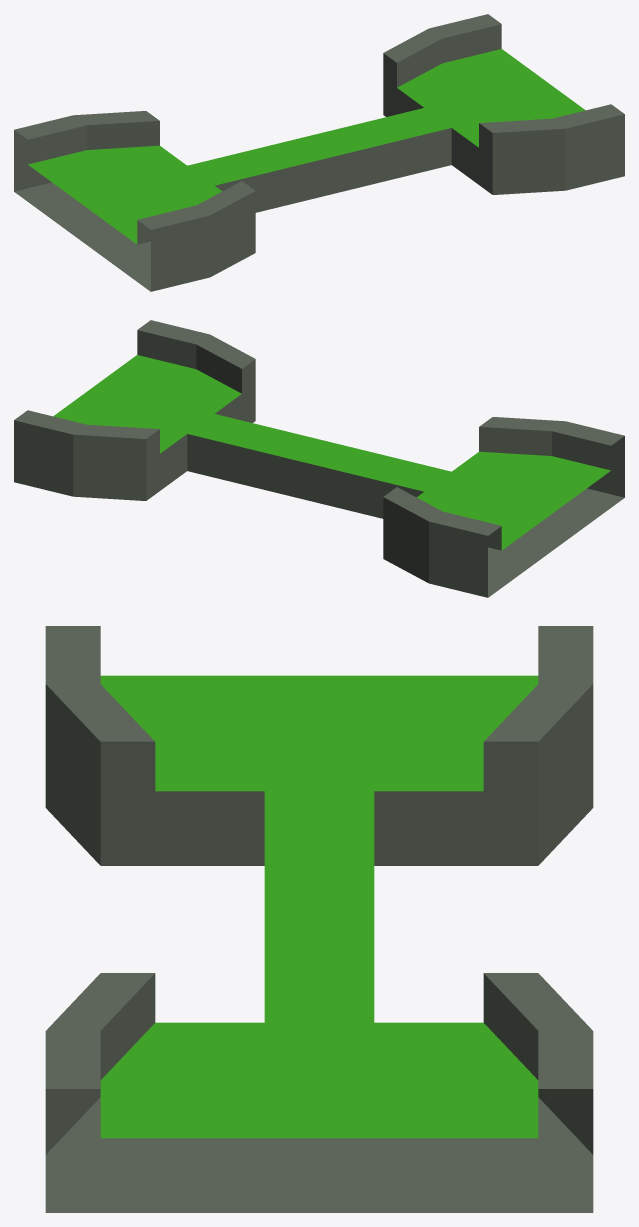
The model's file is BalanceBeam.fbx.
3 views of the same model, one above another, from view 1: azimuth 30°, elevation 25°; view 2: azimuth 150°, elevation 25°; view 3: azimuth 270°, elevation 25° (orthographic). The views are drawn at different scales.
Parts seen in each view (by area): view 1: BalanceBeam.002; view 2: BalanceBeam.002; view 3: BalanceBeam.002.
Part boxes in pixels (x1,y1,x2,y2): BalanceBeam.002: [14, 14, 624, 291]; BalanceBeam.002: [14, 320, 624, 597]; BalanceBeam.002: [45, 626, 593, 1212].
Size of the model in its own units: 400 by 50 by 200.
